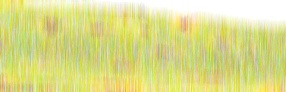Bacterial_Leaf_Blight: (25, 18, 70, 33), (175, 69, 236, 80), (87, 79, 142, 91), (150, 44, 185, 59), (172, 15, 200, 33), (104, 60, 140, 72), (81, 24, 114, 35), (136, 20, 155, 39), (259, 80, 285, 92), (207, 37, 230, 47), (105, 49, 120, 63), (242, 40, 258, 52), (38, 39, 56, 48), (121, 14, 133, 26), (1, 40, 11, 52), (24, 52, 37, 61), (40, 60, 52, 69), (0, 76, 9, 87), (0, 22, 7, 34), (8, 2, 16, 9)
